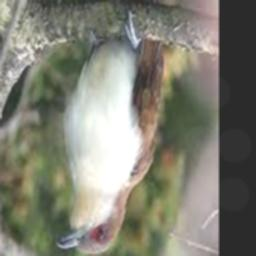Cuckoo: (56, 0, 175, 255)
